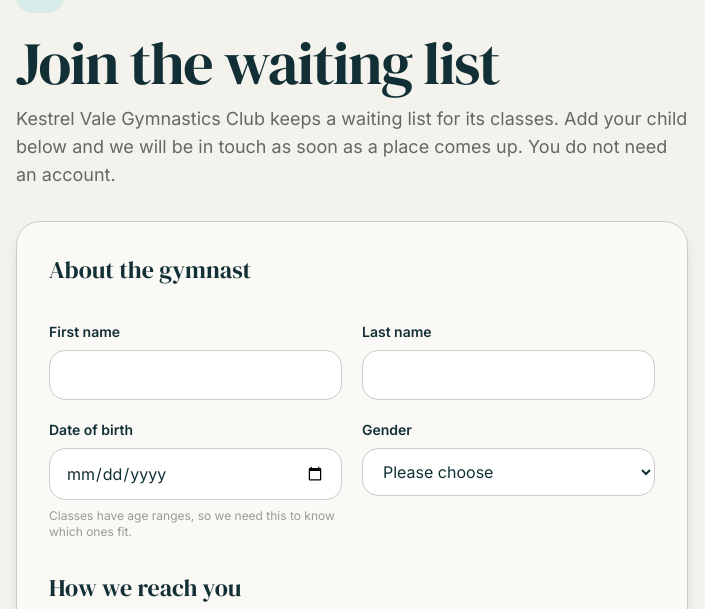
Scenario: Public join page › confirms the position and says what happens next
Type "Priya" into the field labelled "First name".
click(196, 375); type("Priya")  # box [49, 350, 342, 400]
Type "Nandra" into the field labelled "Last name".
click(508, 375); type("Nandra")  # box [362, 350, 655, 400]
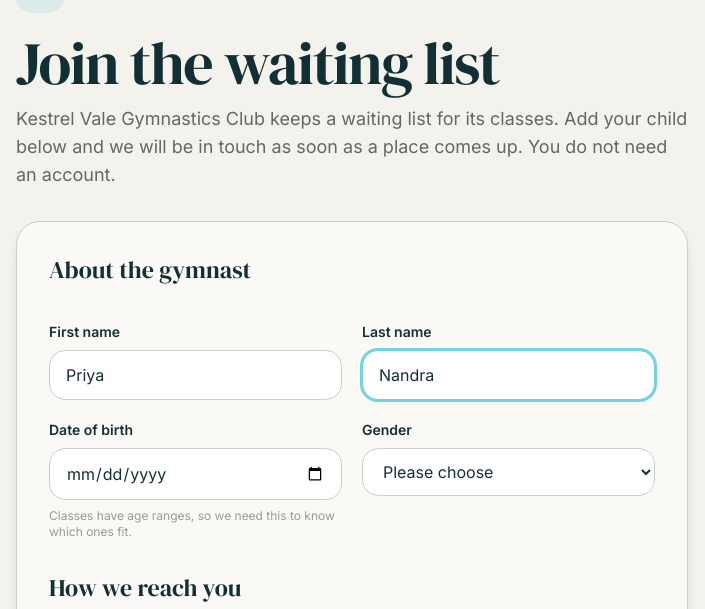
Type "2018-03-01" into the date field labelled "Date of birth".
click(196, 474); type("2018-03-01")  # box [49, 448, 342, 500]
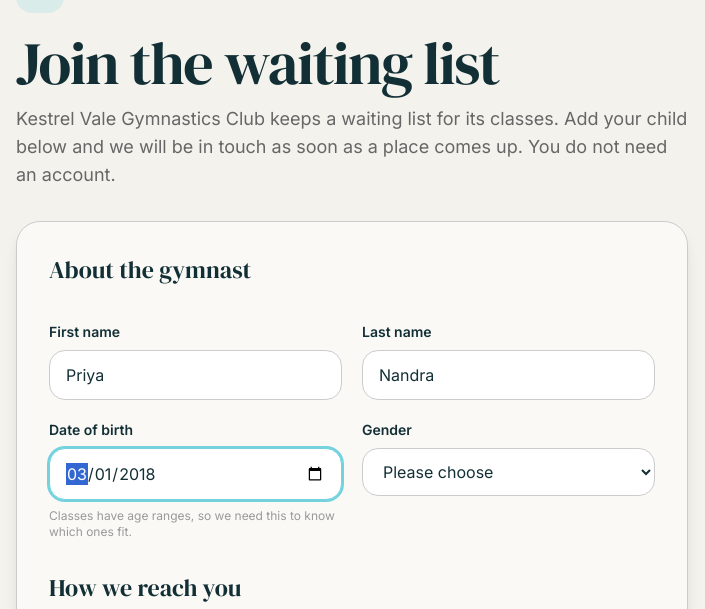
Select "Female" in the dropdown labelled "Gender" at (508, 472), box [362, 448, 655, 496]
(page scrolled)
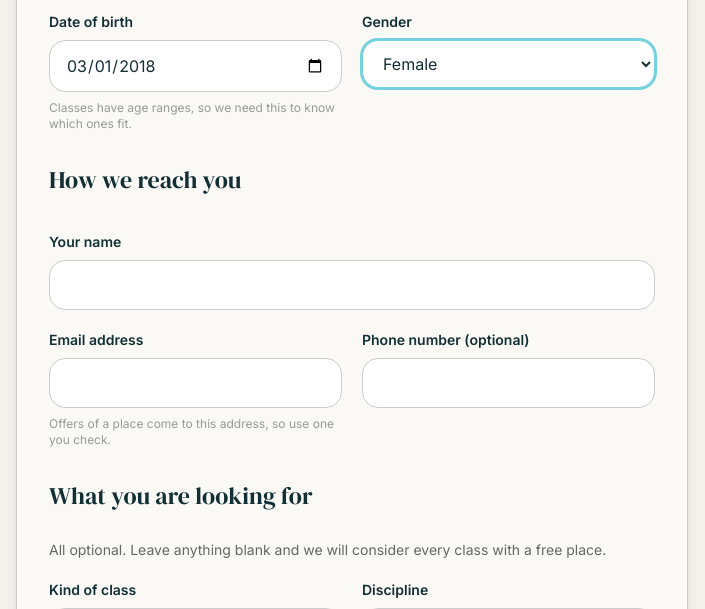
Type "Anita Nandra" into the field labelled "Your name".
click(352, 285); type("Anita Nandra")  # box [49, 260, 655, 310]
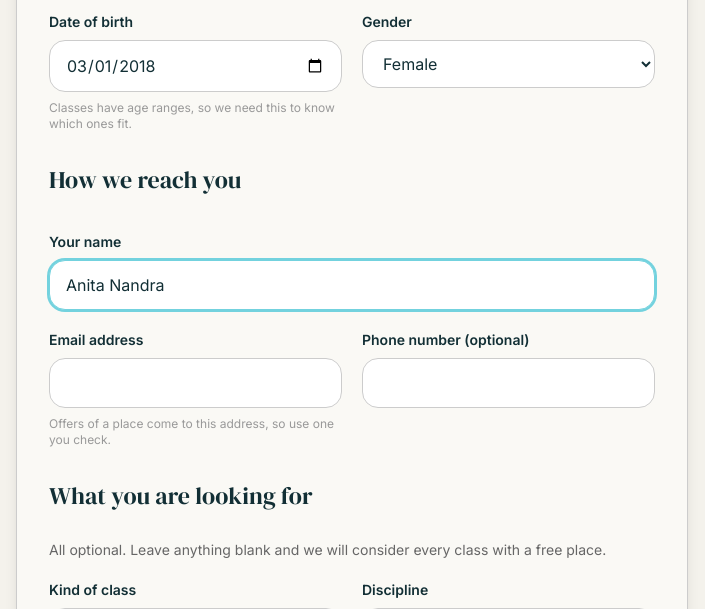
Type "anita@example.com" into the field labelled "Email address".
click(196, 383); type("anita@example.com")  # box [49, 358, 342, 408]
(page scrolled)
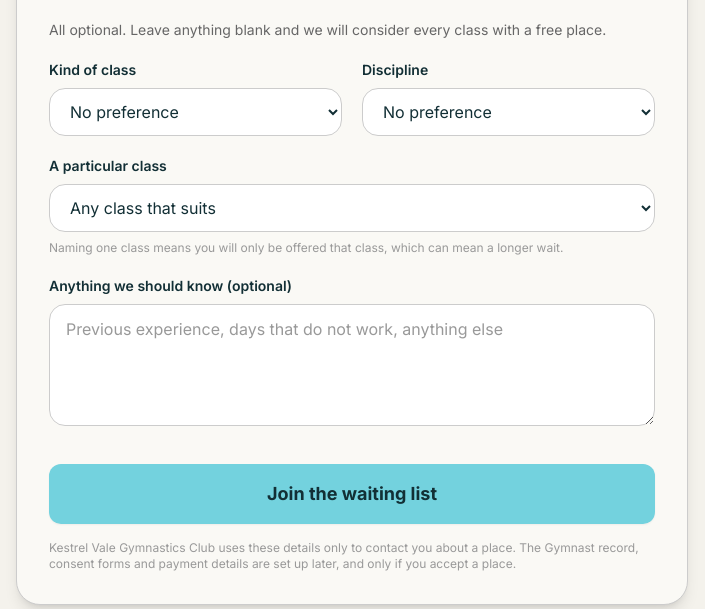
Click the button "Join the waiting list".
click(352, 494)  # box [49, 464, 655, 524]
(page scrolled)
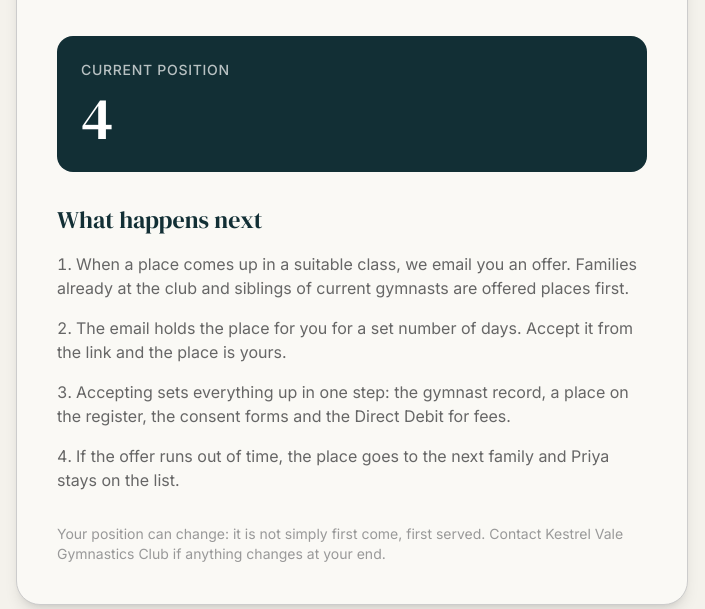
Now the text "4" is shown, box [81, 77, 113, 159]
Now the heading "What happens next" is shown, box [57, 203, 262, 236]
